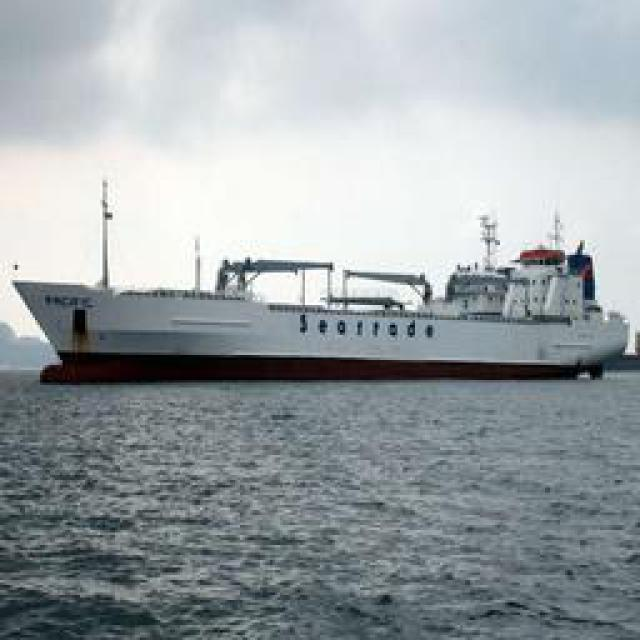Ship: (11, 210, 634, 388)
